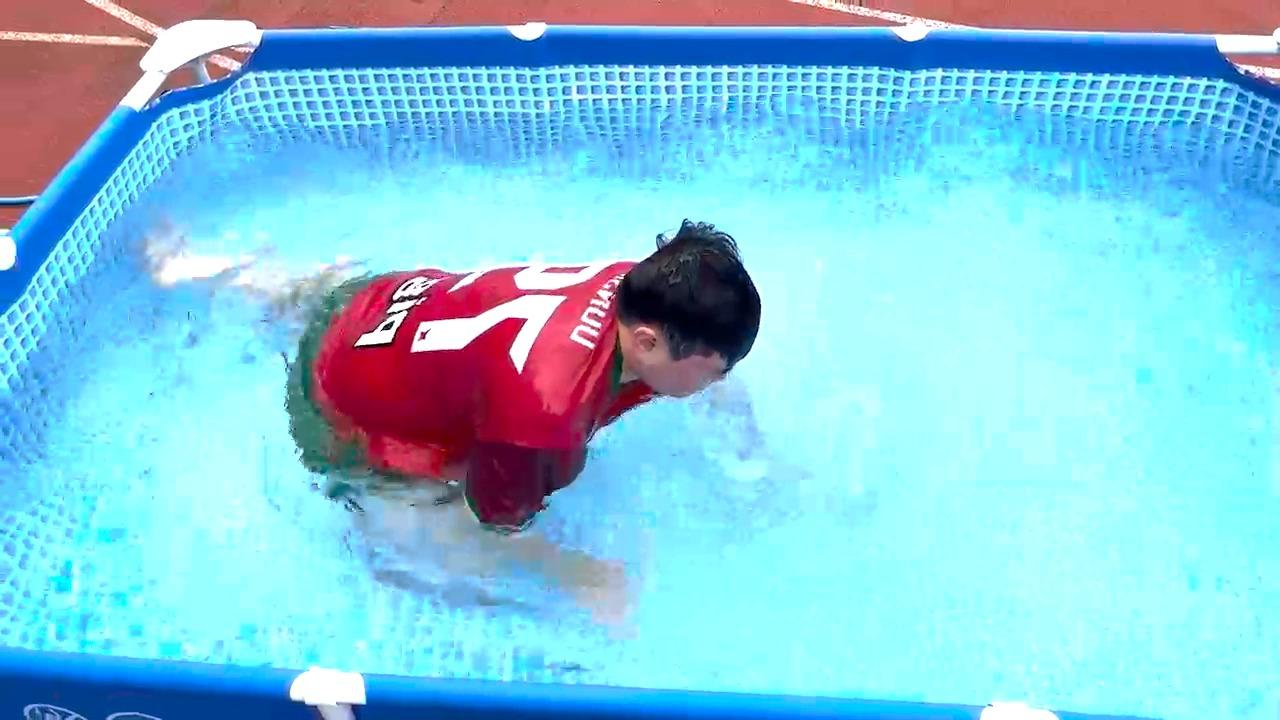Drowning: (137, 153, 860, 602)
